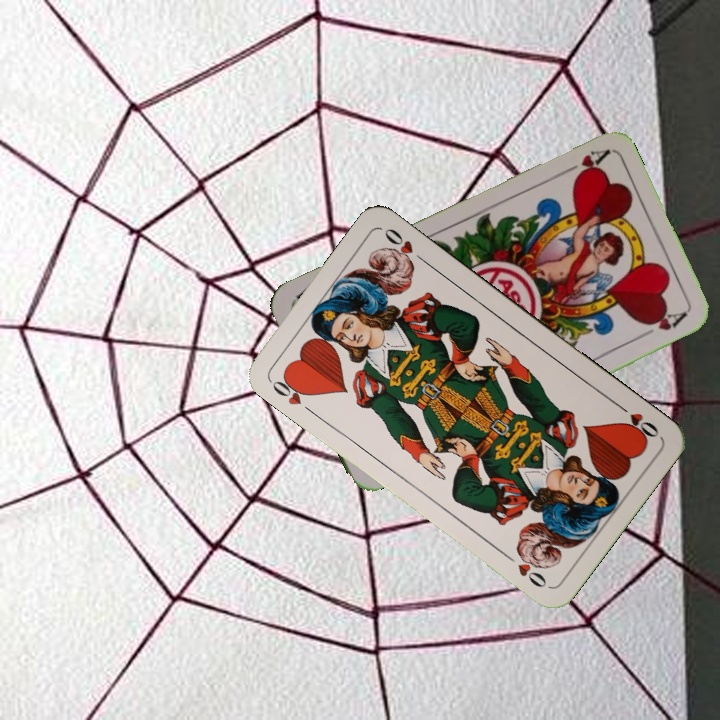HA: (554, 145, 611, 183)
HO: (266, 370, 317, 417), (612, 398, 662, 444)
